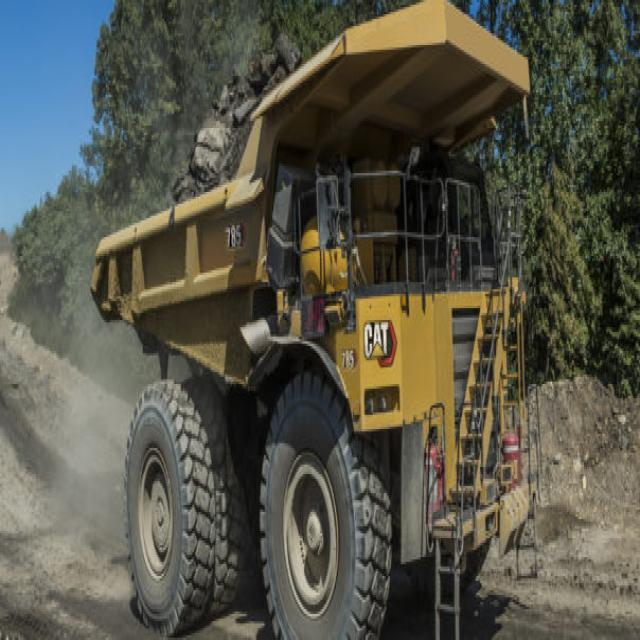dump_truck: (92, 5, 538, 635)
